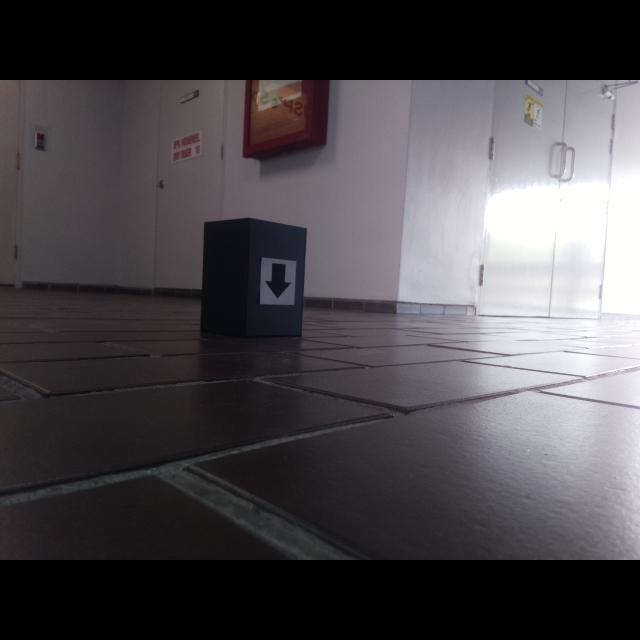DOWN: (263, 262, 292, 301)
